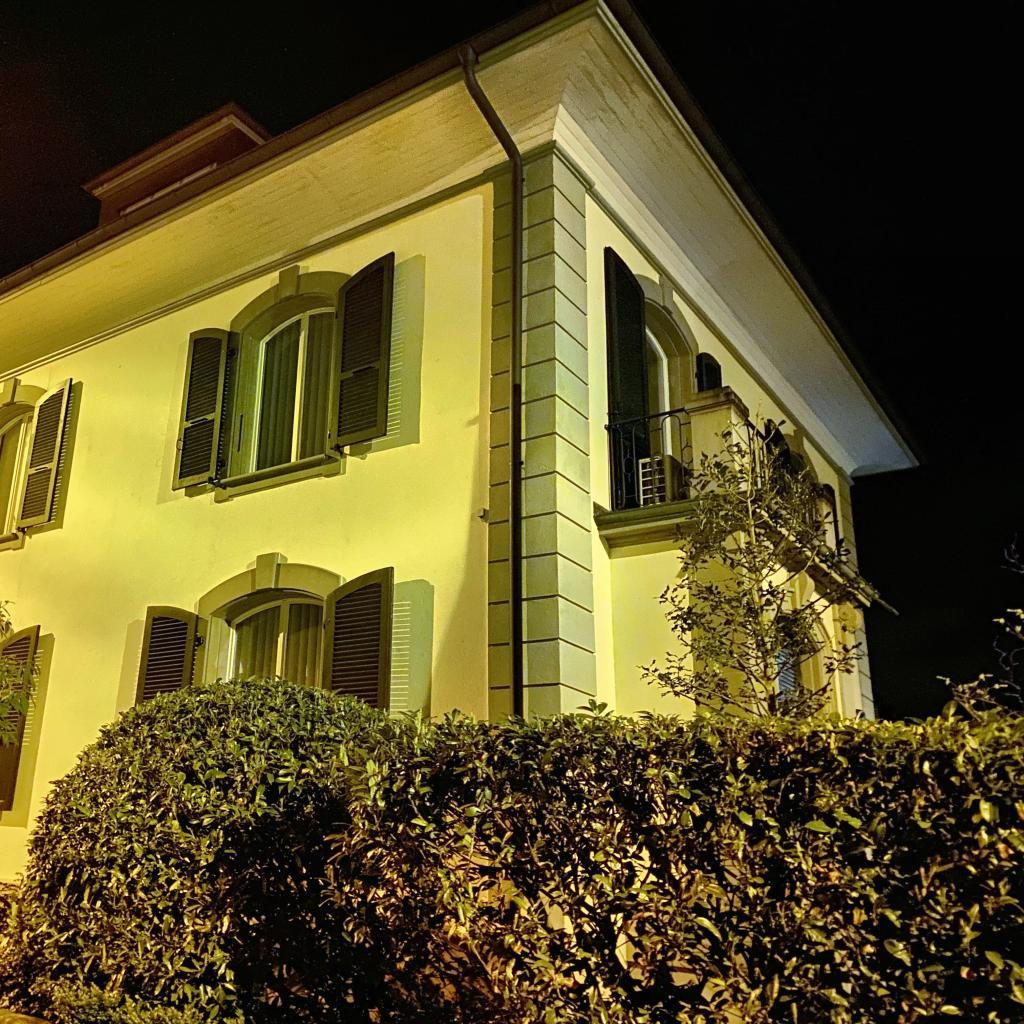balcony-fence: (602, 407, 692, 512)
facade: (0, 0, 923, 880)
vegetation: (0, 395, 1024, 1024), (0, 598, 42, 750)
window: (247, 305, 335, 474), (226, 598, 323, 687), (0, 411, 34, 538)
